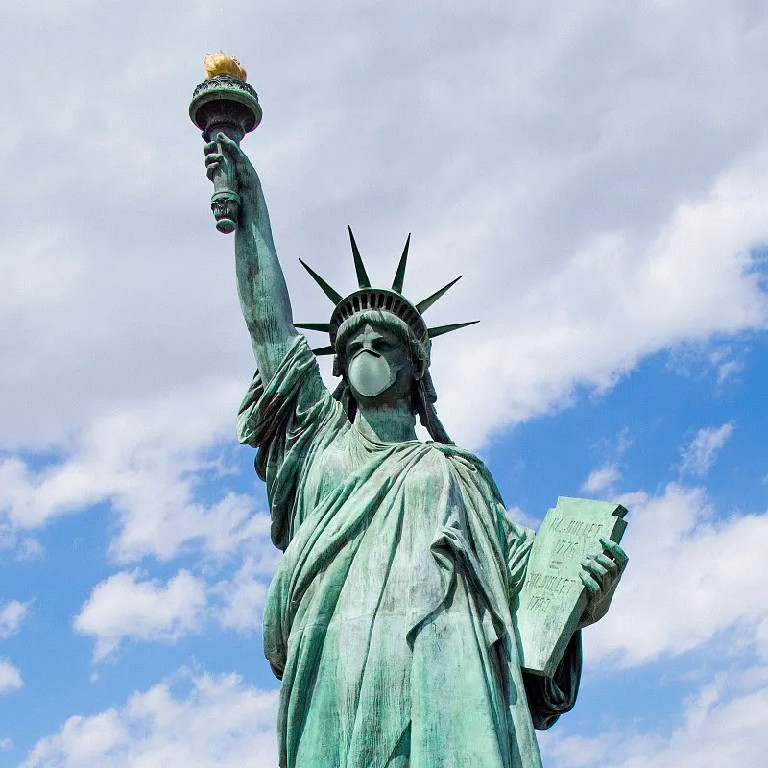SL: (189, 49, 630, 768)
